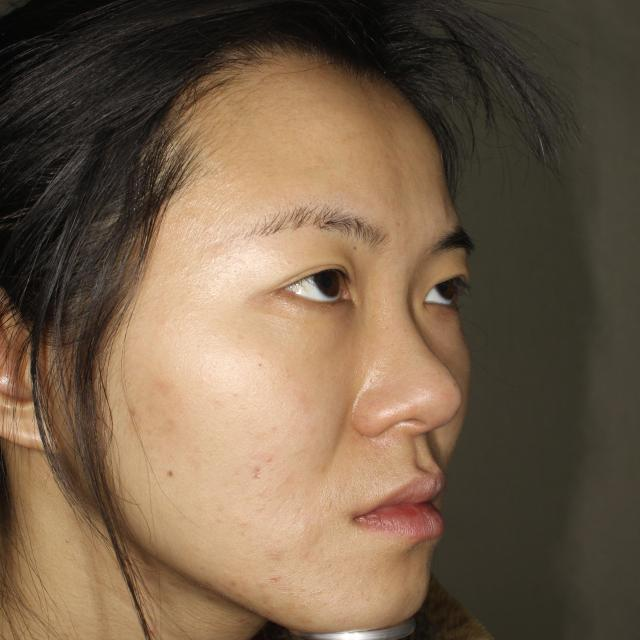acne: (256, 536, 287, 567), (221, 566, 248, 597)
